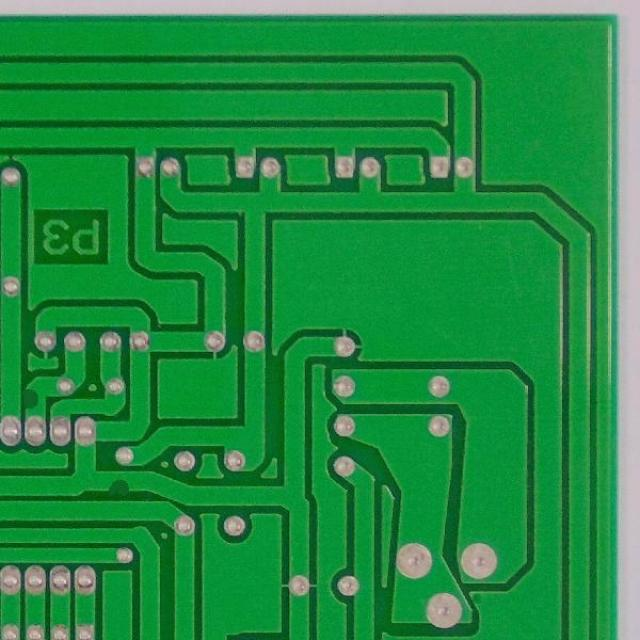mouse_bite: (102, 472, 134, 497), (22, 386, 44, 413)
